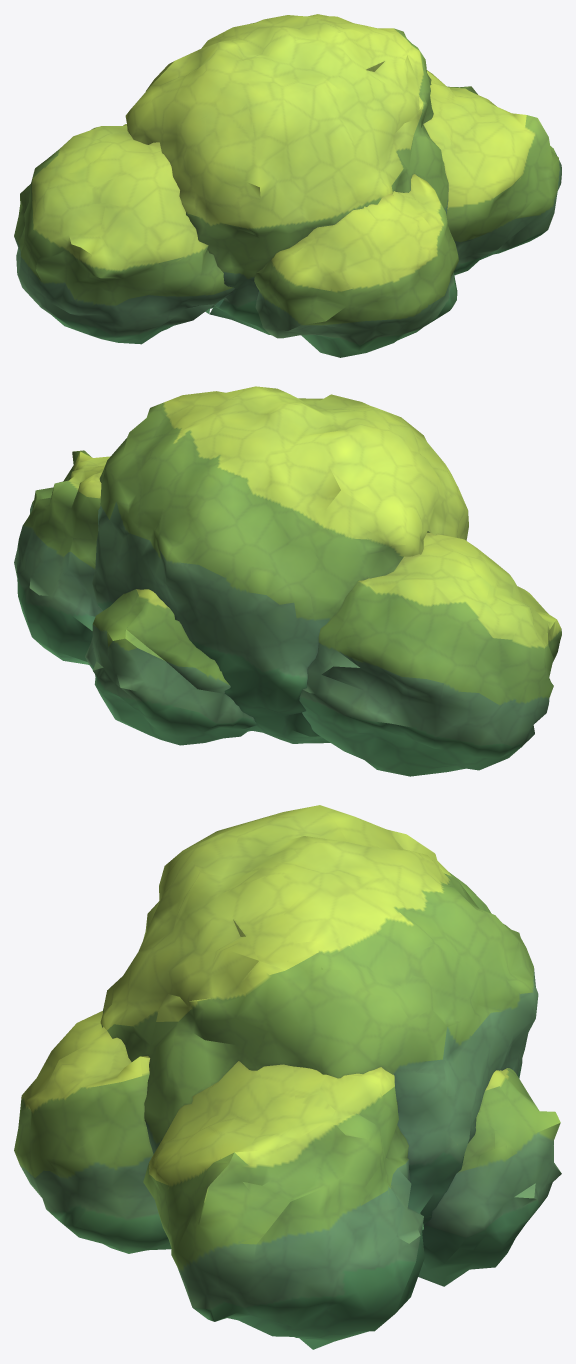
The model's file is V02_RoundShrub.fbx.
3 renders of one model, top to bottom at view 1: azimuth 30°, elevation 25°; view 2: azimuth 150°, elevation 25°; view 3: azimuth 270°, elevation 25°, orthographic. The views are drawn at different scales.
Parts seen in each view (by area): view 1: V02_RoundShrub; view 2: V02_RoundShrub; view 3: V02_RoundShrub.
Boxes of the visible parts, x1,y1,x2,y2 form: V02_RoundShrub: (14, 14, 561, 357); V02_RoundShrub: (14, 386, 561, 776); V02_RoundShrub: (14, 805, 561, 1349).
Size of the model in its own units: 1.42 by 0.76 by 0.96.
